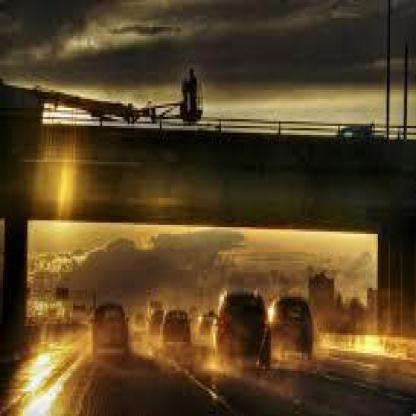other: (26, 146, 90, 255), (12, 341, 66, 397)
